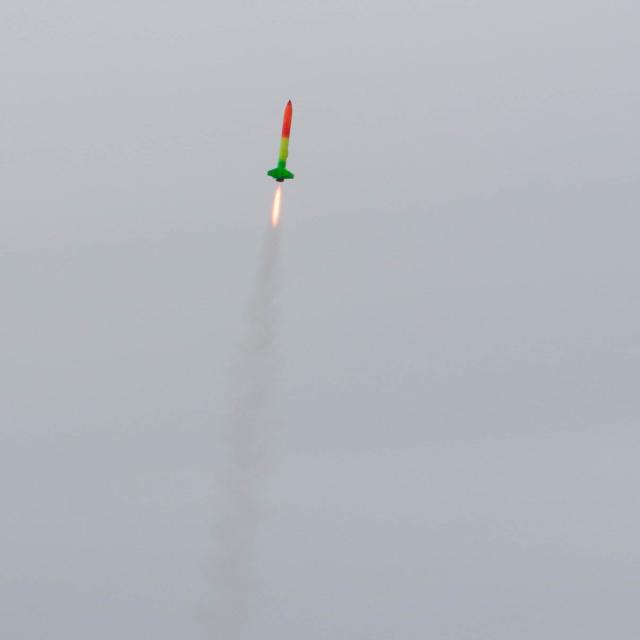Rocket: (266, 99, 296, 183)
